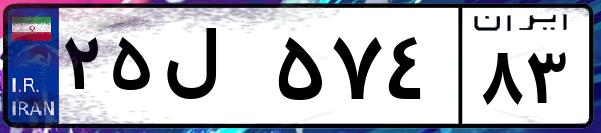2: (57, 26, 110, 100)
3: (525, 38, 570, 115)
4: (385, 28, 445, 110)
5: (270, 28, 330, 110), (110, 28, 158, 98)
7: (330, 28, 385, 110)
8: (475, 38, 525, 113)
ل: (158, 20, 270, 120)
